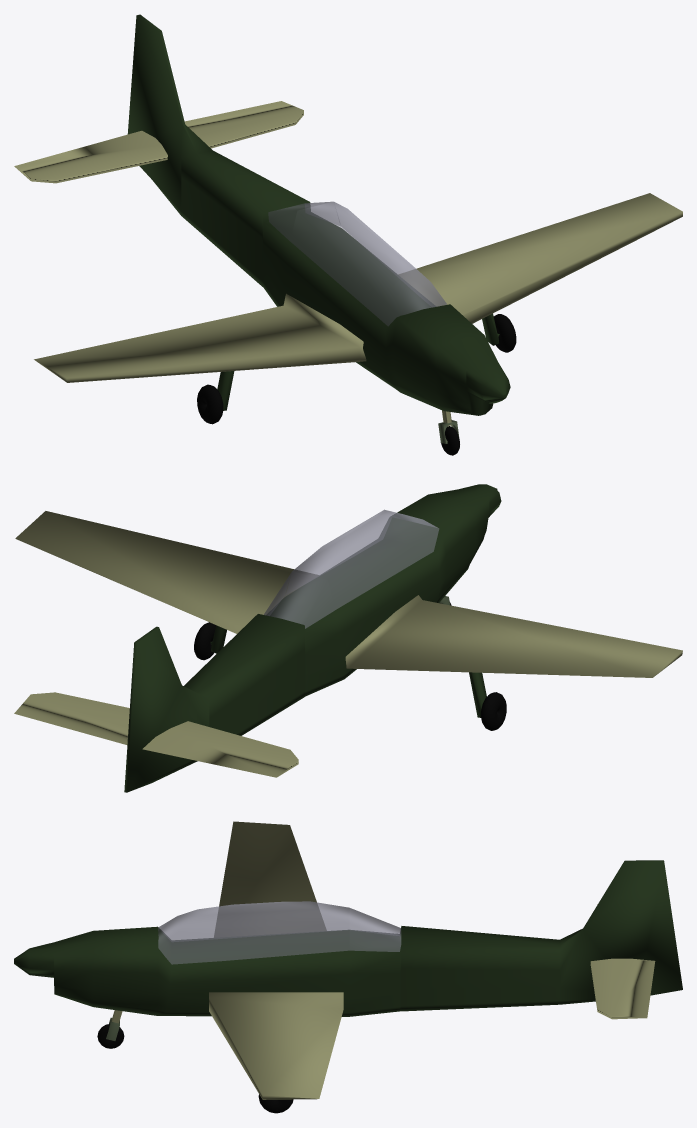
The model's file is airplane.glb.
3 views of the same model, one above another, from view 1: azimuth 30°, elevation 25°; view 2: azimuth 150°, elevation 25°; view 3: azimuth 270°, elevation 25° (orthographic). The views are drawn at different scales.
Parts seen in each view (by area): view 1: fuselage, wing-right, wing-left, cockpit, Cube, wheel-right; view 2: fuselage, wing-right, wing-left, cockpit, Cube, wheel-right, wheel-left, leg-right; view 3: fuselage, cockpit, wing-left, wing-right, Cube.
Part boxes in pixels (x1,y1,x2,y2): fuselage: [127, 14, 510, 415]; wing-right: [34, 293, 366, 382]; wing-left: [399, 193, 682, 323]; cockpit: [268, 201, 446, 326]; Cube: [14, 101, 303, 183]; wheel-right: [197, 384, 223, 424]; fuselage: [124, 484, 501, 792]; wing-right: [345, 595, 682, 677]; wing-left: [15, 511, 318, 633]; cockpit: [263, 509, 438, 628]; Cube: [14, 692, 298, 777]; wheel-right: [481, 692, 506, 730]; wheel-left: [194, 622, 215, 660]; leg-right: [469, 672, 486, 717]; fuselage: [14, 860, 682, 1016]; cockpit: [158, 901, 401, 964]; wing-left: [209, 992, 343, 1099]; wing-right: [214, 821, 326, 937]; Cube: [590, 904, 655, 1019].
Bounding box in the file's own units: 11.19 × 3.58 × 11.53.
